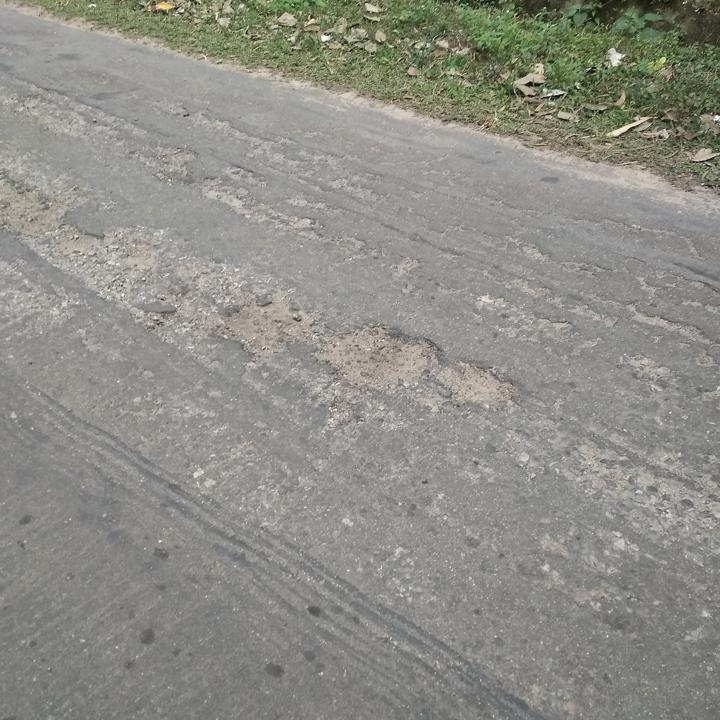pothole: (314, 318, 448, 392), (219, 292, 323, 360), (431, 357, 518, 403), (0, 162, 56, 227)
